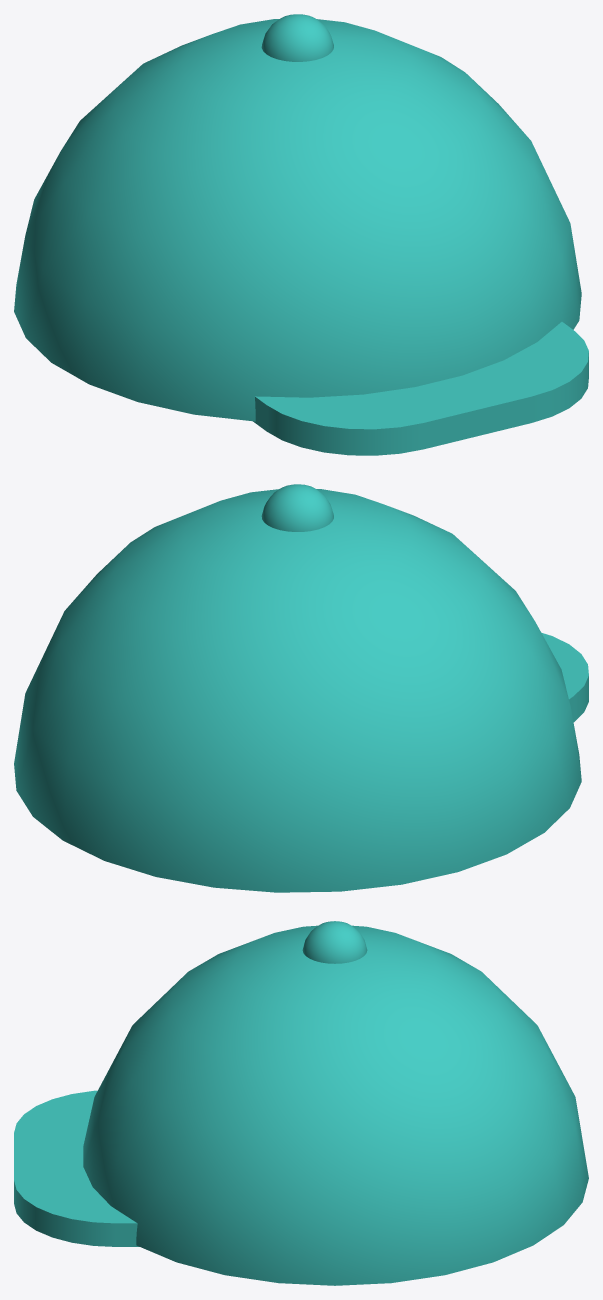
The model's file is CharCap.glb.
3 renders of one model, top to bottom at view 1: azimuth 30°, elevation 25°; view 2: azimuth 150°, elevation 25°; view 3: azimuth 270°, elevation 25°, orthographic. The views are drawn at different scales.
Visible parts, largest first — view 1: playerCapTeal; view 2: playerCapTeal; view 3: playerCapTeal.
Part boxes in pixels (x1,y1,x2,y2): playerCapTeal: (14,14,588,455); playerCapTeal: (14,484,588,892); playerCapTeal: (14,921,588,1285).
Size of the model in its own units: 0.546 by 0.304 by 0.618.
